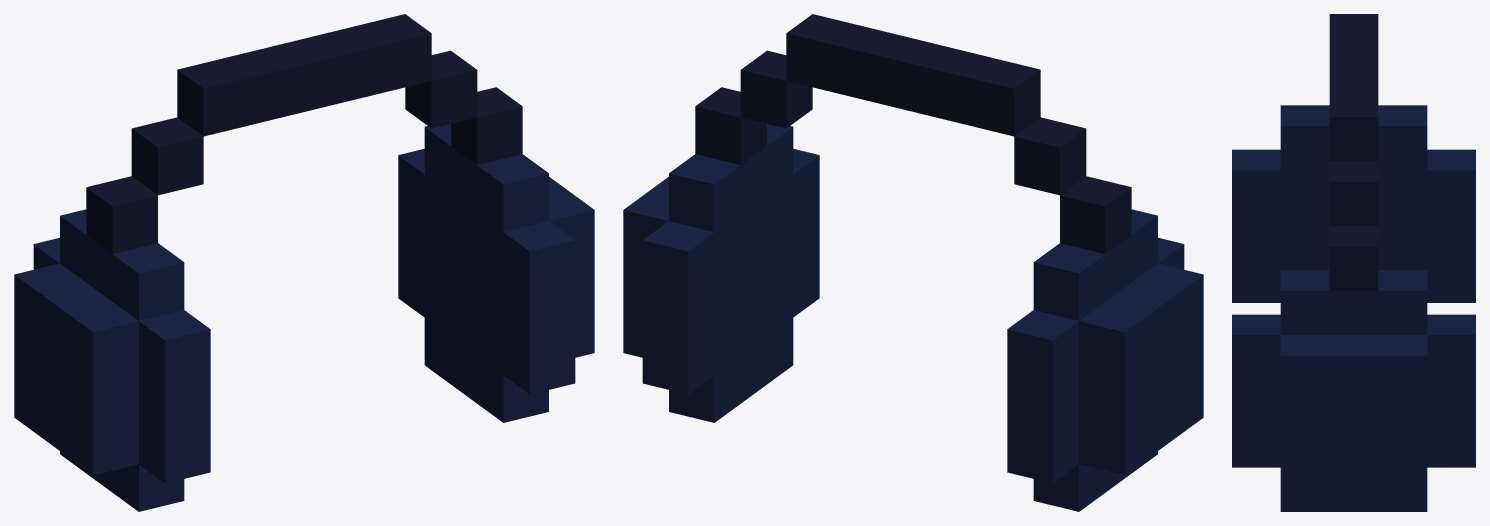
File: headphones.dae
The picture shows the model from 3 angles, left to right: view 1: azimuth 30°, elevation 25°; view 2: azimuth 150°, elevation 25°; view 3: azimuth 270°, elevation 25°; orthographic projection. The views are drawn at different scales.
Visible parts, largest first — view 1: headphones; view 2: headphones; view 3: headphones.
Boxes of the visible parts, box(x1,y1,x2,y2) form: headphones: box(14, 14, 594, 511); headphones: box(623, 14, 1203, 511); headphones: box(1232, 14, 1475, 511).
Size of the model in its own units: 11 by 8 by 5.
Materials: 1 (1 with a texture image).
